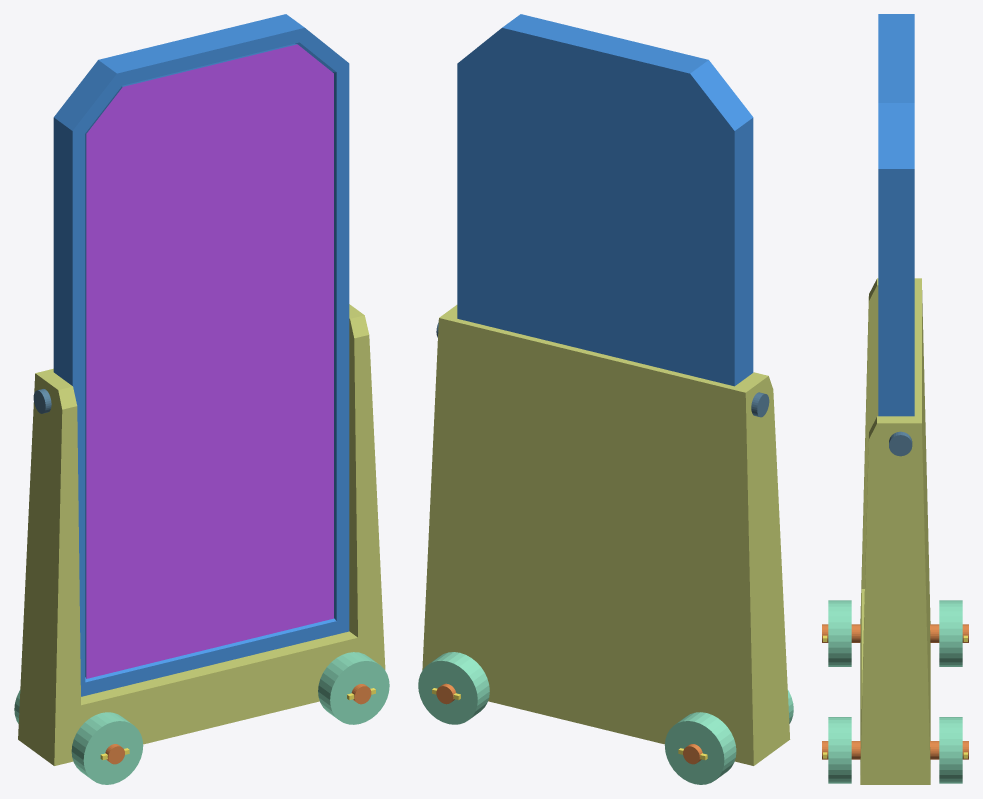
Rendered from 5.1可移动的镜子.fbx.
The picture shows the model from 3 angles, left to right: view 1: azimuth 30°, elevation 25°; view 2: azimuth 150°, elevation 25°; view 3: azimuth 270°, elevation 25°; orthographic projection. The views are drawn at different scales.
Parts seen in each view (by area): view 1: main, 立方体.001, wheel2, wheel1; view 2: 立方体.001, main, wheel3, wheel4; view 3: 立方体.001, main, wheel1, wheel2, wheel3, wheel4, nail1, 柱体.001, 柱体.011, 柱体.005, 柱体.009.
Boxes of the visible parts, box(x1,y1,x2,y2) form: main: box(53, 14, 349, 696); 立方体.001: box(18, 304, 385, 765); wheel2: box(71, 712, 143, 784); wheel1: box(318, 652, 389, 724); 立方体.001: box(422, 305, 790, 765); main: box(457, 14, 753, 386); wheel3: box(664, 712, 736, 784); wheel4: box(418, 652, 489, 724); 立方体.001: box(860, 278, 930, 784); main: box(878, 14, 914, 416); wheel1: box(828, 717, 851, 783); wheel2: box(828, 600, 851, 666); wheel3: box(939, 600, 962, 666); wheel4: box(939, 717, 962, 783); nail1: box(889, 431, 912, 456); 柱体.001: box(822, 741, 860, 759); 柱体.011: box(930, 741, 968, 759); 柱体.005: box(822, 624, 860, 642); 柱体.009: box(930, 624, 968, 642).
Size of the model in its own units: 109 by 215 by 43.12.
